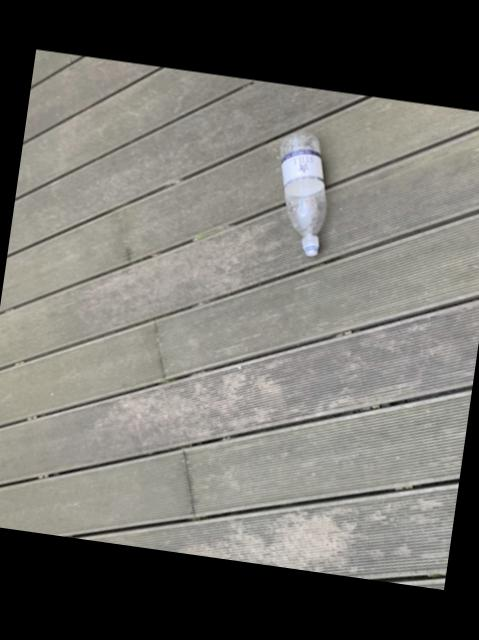plastic: (277, 132, 322, 257)
